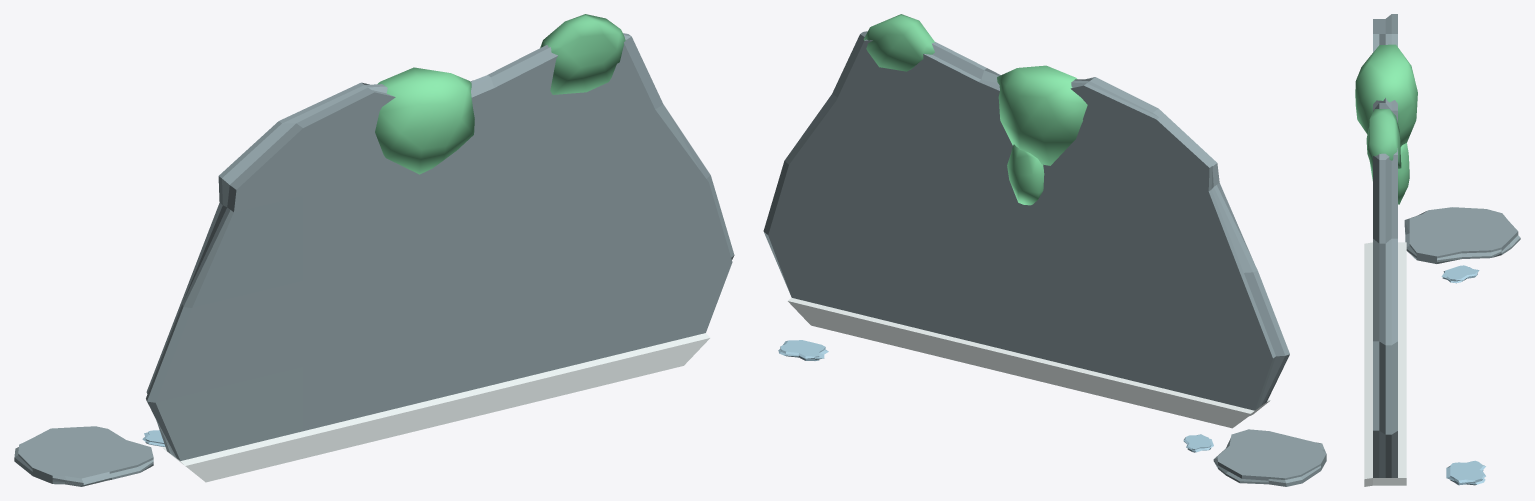
The model's file is wall.glb.
3 renders of one model, left to right at view 1: azimuth 30°, elevation 25°; view 2: azimuth 150°, elevation 25°; view 3: azimuth 270°, elevation 25°, orthographic. The views are drawn at different scales.
Parts seen in each view (by area): view 1: Cube, Icosphere.002; view 2: Cube, Icosphere.002, Cube.002; view 3: Cube, Icosphere.002, Cube.002.
Part boxes in pixels (bbox=[...]): Cube: bbox=[14, 33, 734, 486]; Icosphere.002: bbox=[375, 14, 625, 174]; Cube: bbox=[763, 31, 1326, 486]; Icosphere.002: bbox=[863, 14, 1087, 205]; Cube.002: bbox=[778, 340, 1213, 452]; Cube: bbox=[1364, 14, 1520, 486]; Icosphere.002: bbox=[1355, 44, 1417, 204]; Cube.002: bbox=[1441, 265, 1485, 485].
Bounding box in the file's own units: 7.91 × 4.14 × 1.85.
